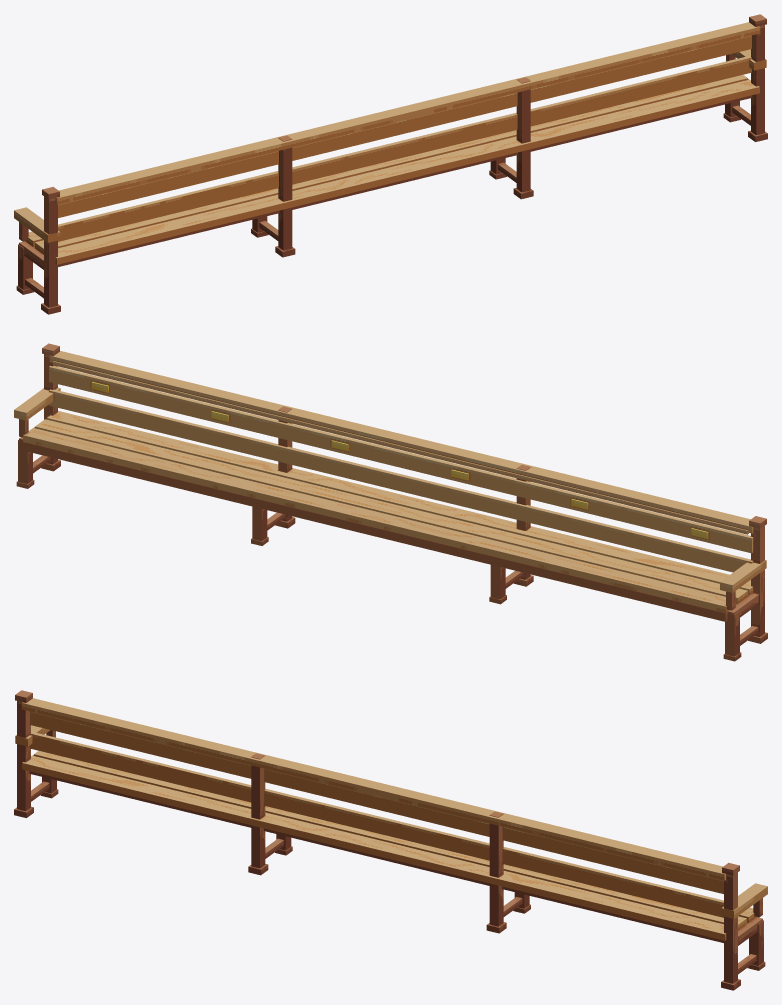
File: bench.gltf
3 renders of one model, top to bottom at view 1: azimuth 30°, elevation 25°; view 2: azimuth 150°, elevation 25°; view 3: azimuth 330°, elevation 25°, orthographic.
Visible parts, largest first — view 1: back_rail_low, seat_slat3, back_crest, back_rail_high, seat_slat2, seat_apron_back, frame2_post_back, frame3_post_back, frame1_post_back, frame4_post_back, frame1_arm; view 2: back_rail_low, back_rail_high, seat_slat1, back_crest, seat_slat2, seat_slat3, seat_apron_front, back_crest_lip, frame1_post_back, frame1_arm, frame4_arm, frame1_leg_front; view 3: back_rail_low, seat_slat3, back_crest, back_rail_high, seat_slat2, seat_apron_back, frame3_post_back, frame2_post_back, frame4_post_back, frame1_post_back, frame4_arm.
Boxes of the visible parts, x1,y1,x2,y2 form: back_rail_low: [58, 55, 751, 241]; seat_slat3: [55, 79, 759, 264]; back_crest: [55, 22, 760, 204]; back_rail_high: [58, 35, 751, 217]; seat_slat2: [35, 75, 747, 254]; seat_apron_back: [58, 95, 752, 266]; frame2_post_back: [278, 135, 292, 250]; frame3_post_back: [516, 77, 530, 192]; frame1_post_back: [44, 196, 57, 307]; frame4_post_back: [751, 25, 764, 135]; frame1_arm: [14, 207, 60, 242]; back_rail_low: [49, 389, 753, 572]; back_rail_high: [49, 365, 753, 553]; seat_slat1: [23, 428, 735, 612]; back_crest: [49, 351, 753, 533]; seat_slat2: [35, 419, 747, 603]; seat_slat3: [46, 411, 753, 595]; seat_apron_front: [22, 441, 727, 621]; back_crest_lip: [53, 361, 748, 534]; frame1_post_back: [751, 526, 764, 636]; frame1_arm: [720, 560, 766, 592]; frame4_arm: [14, 387, 60, 420]; frame1_leg_front: [725, 611, 739, 656]; back_rail_low: [30, 731, 723, 917]; seat_slat3: [22, 755, 726, 940]; back_crest: [21, 698, 726, 880]; back_rail_high: [30, 711, 723, 893]; seat_slat2: [34, 751, 746, 930]; seat_apron_back: [29, 771, 723, 942]; frame3_post_back: [489, 811, 503, 926]; frame2_post_back: [251, 753, 265, 868]; frame4_post_back: [724, 872, 737, 983]; frame1_post_back: [17, 701, 30, 811]; frame4_arm: [721, 883, 767, 918].
Bounding box in the file's own units: 7 × 1.12 × 0.5962.
Materials: 2 (2 with a texture image).
